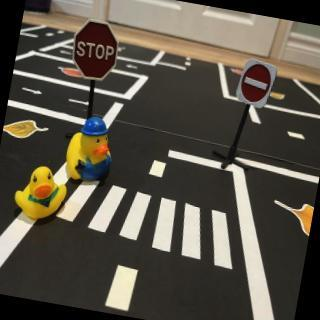duck_regular: (9, 161, 71, 226)
duck_specialty: (62, 112, 123, 188)
road_crosswalk: (47, 164, 252, 275)
road_oneway: (66, 94, 94, 113), (19, 84, 46, 100), (122, 62, 144, 73), (61, 49, 75, 60)
sign_noentry: (233, 56, 283, 116)
sign_stop: (68, 17, 125, 86)
